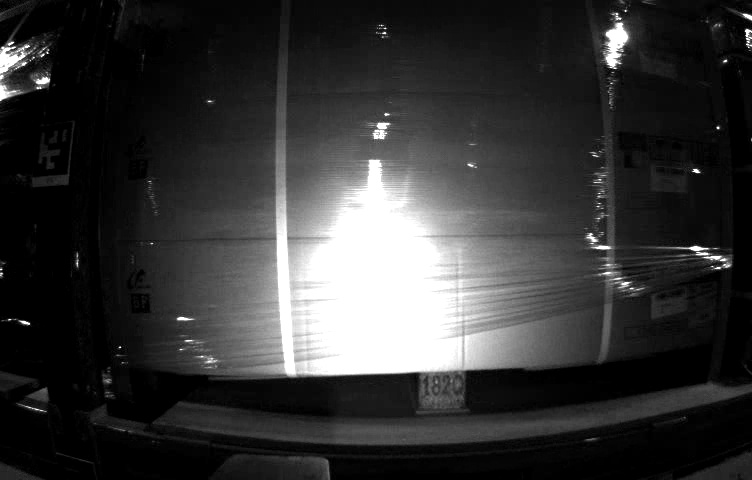True Barcode: (687, 292, 720, 330)
